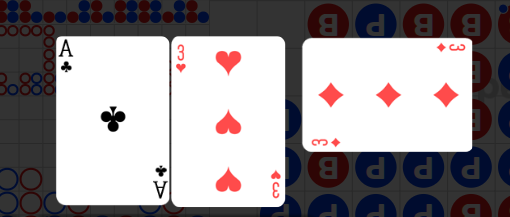3H: (175, 44, 188, 75)
6D: (435, 42, 466, 54)
AC: (151, 162, 167, 199)
